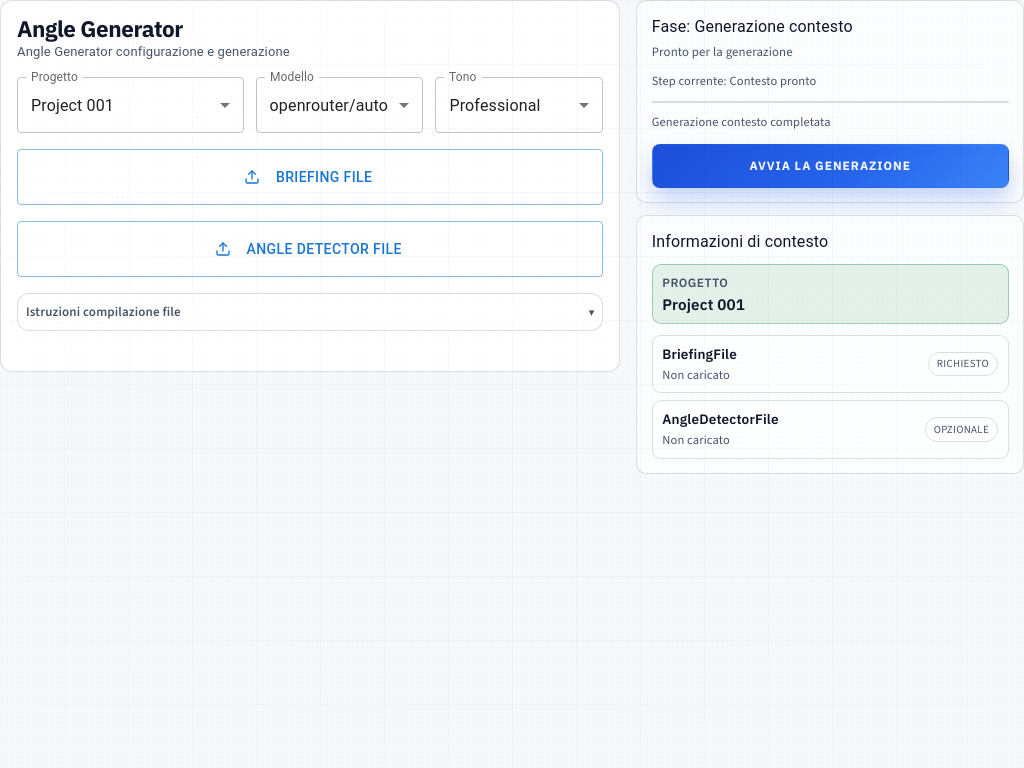
Test: ToolPageTemplate wiring › renders the file instructions section for the active tool
What coordinates should you click on to do the following:
click the heading "Istruzioni compilazione file"
I would click on:
 (103, 312)
Its box is 26,303 -> 181,320.
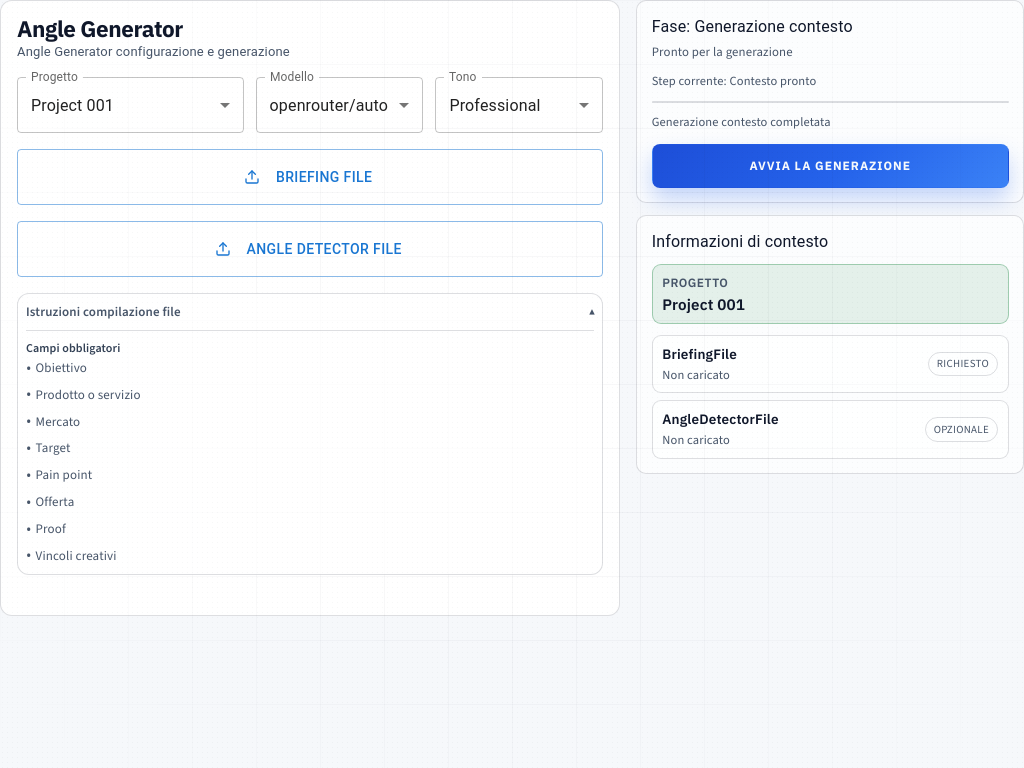
Result: the text "Obiettivo" is shown at 36,359 -> 87,378
Result: the text "Prodotto o servizio" is shown at 36,386 -> 141,404
Result: the text "Vincoli creativi" is shown at 36,547 -> 117,566
